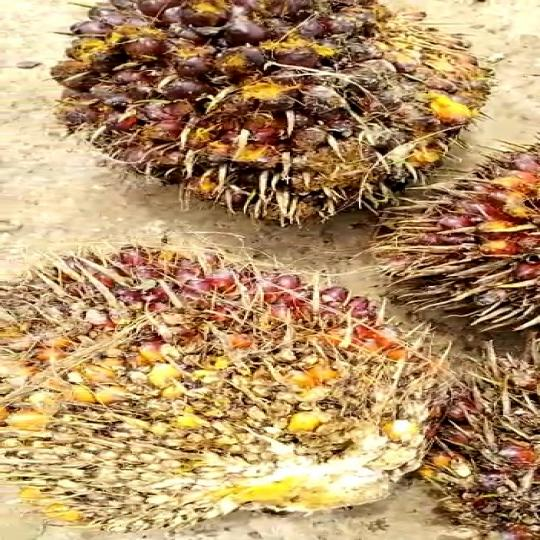masak: (0, 228, 448, 540), (41, 0, 513, 215)
